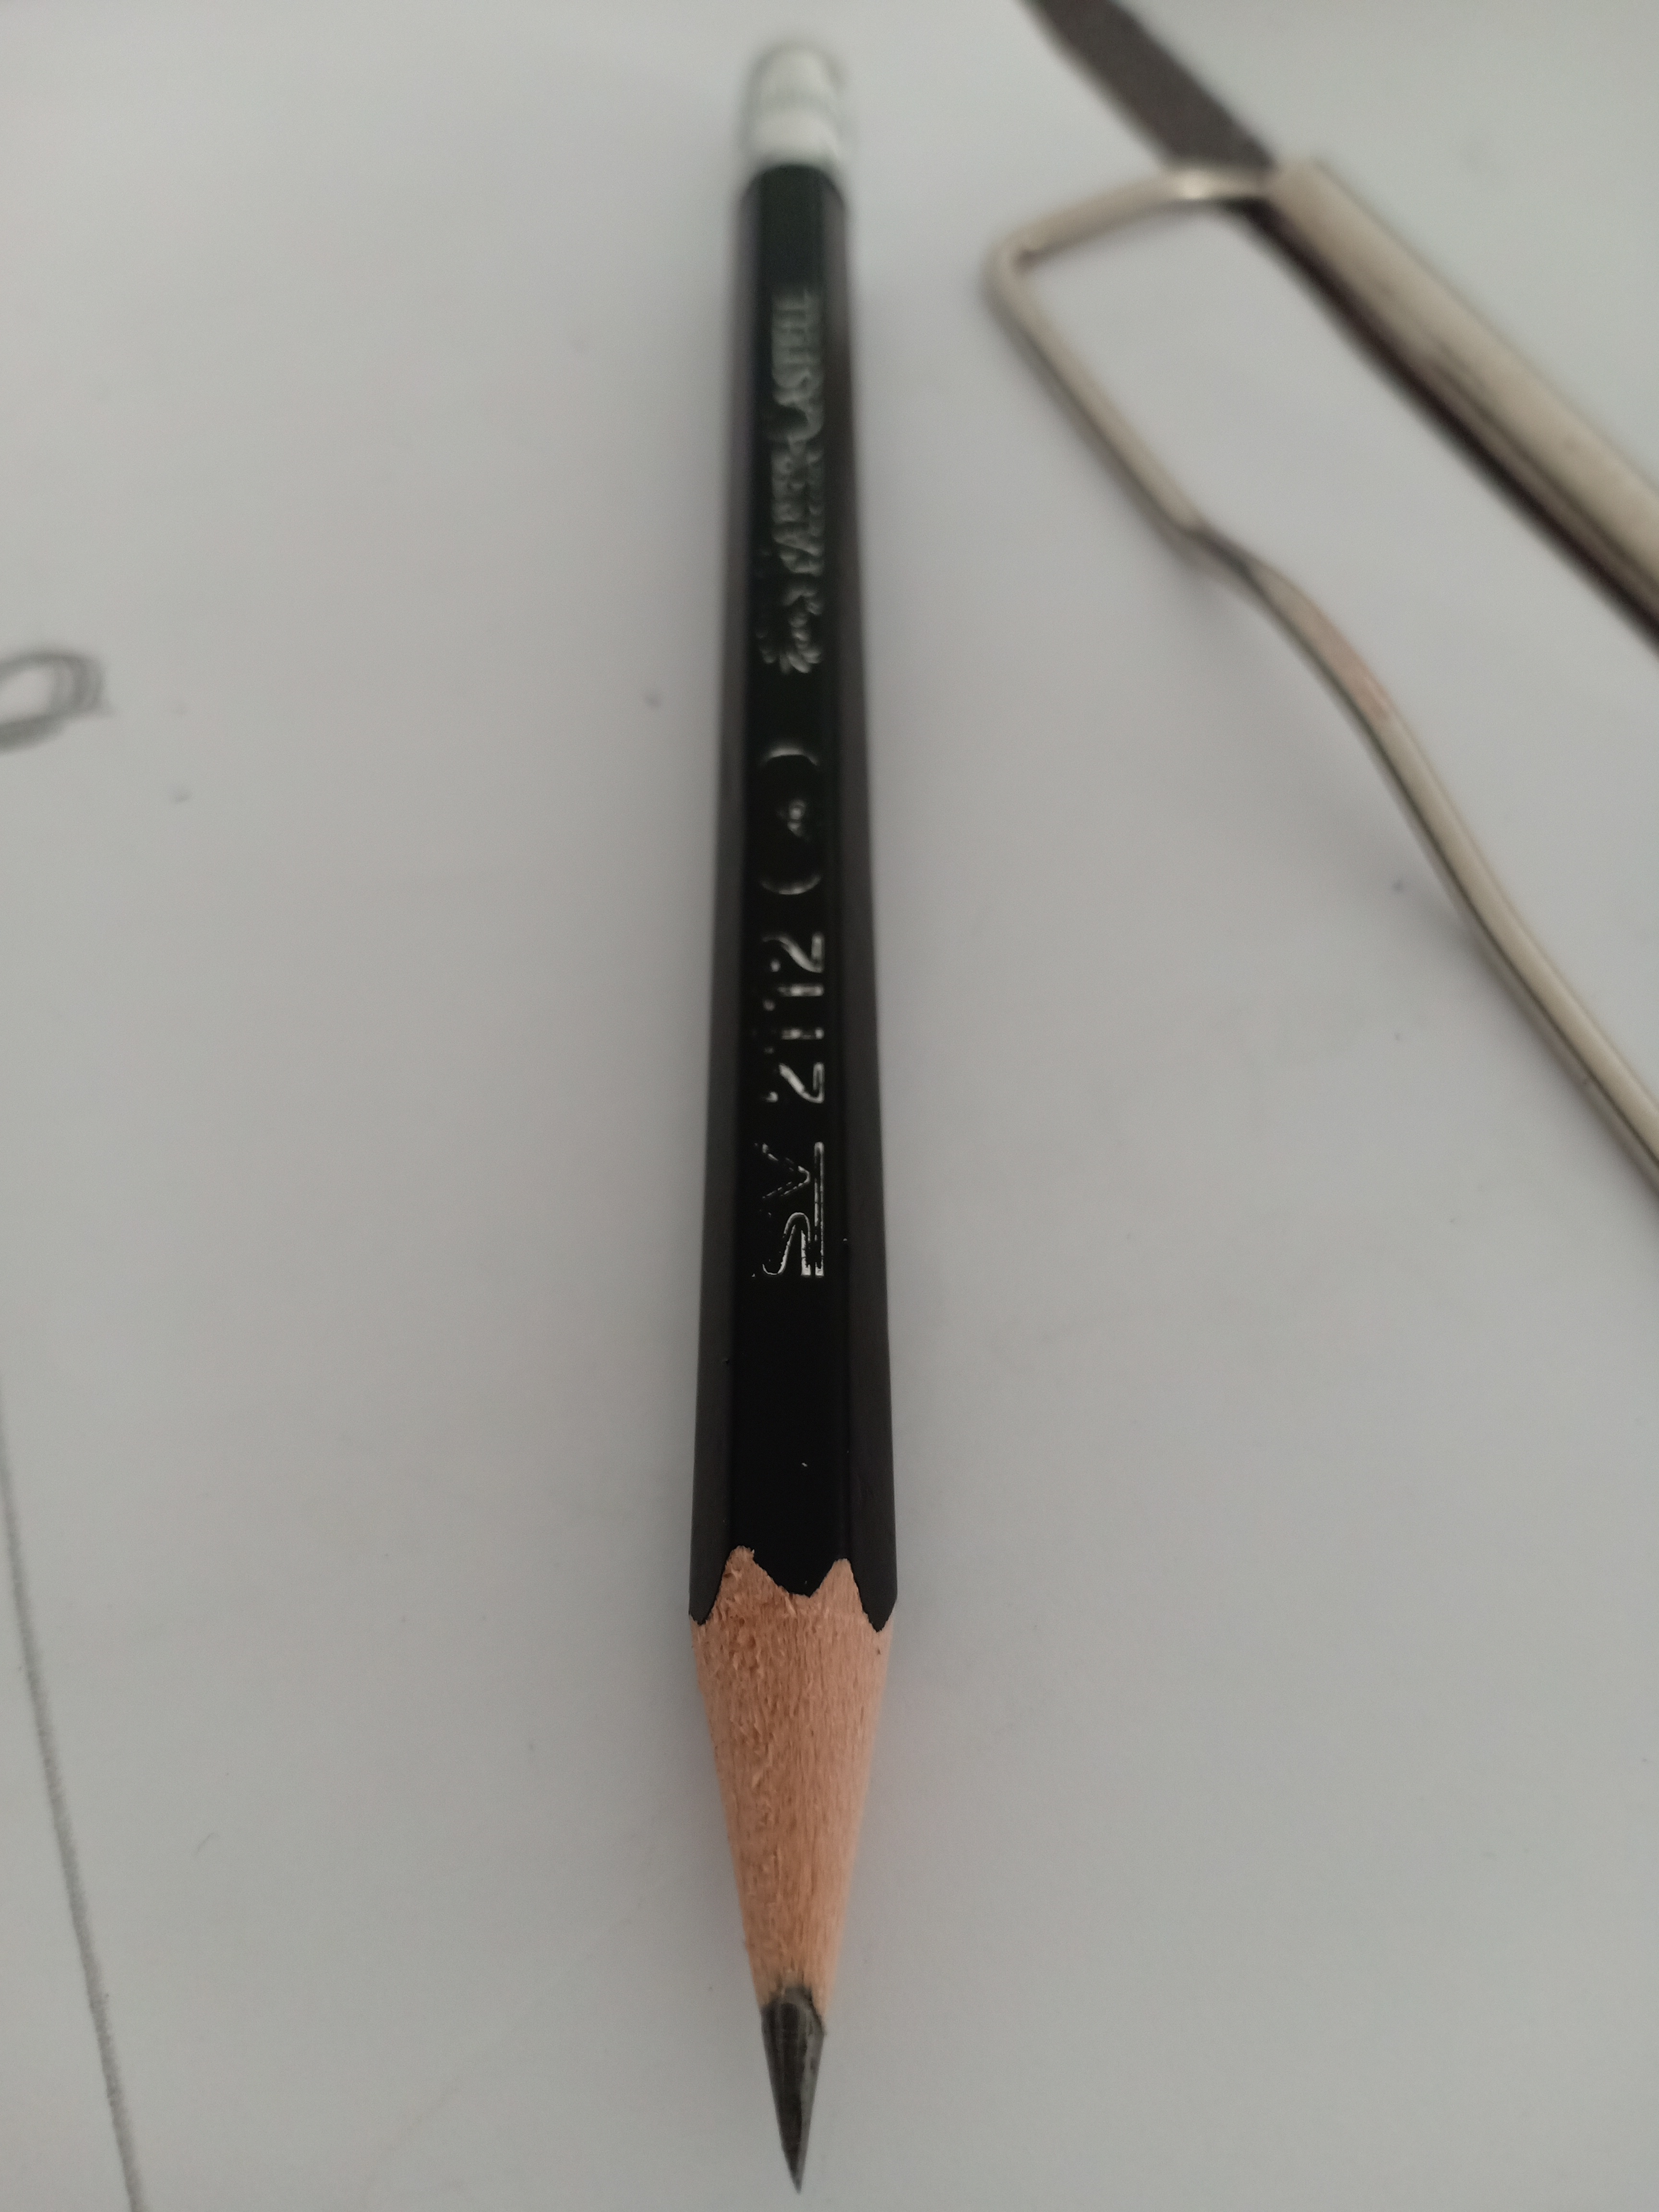pen_tip: (638, 1507, 951, 2212)
